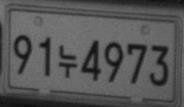1: (35, 37, 58, 75)
3: (149, 45, 169, 86)
4: (80, 39, 101, 81)
7: (126, 43, 147, 83)
9: (104, 40, 124, 82), (13, 33, 32, 74)
누: (58, 44, 78, 78)
